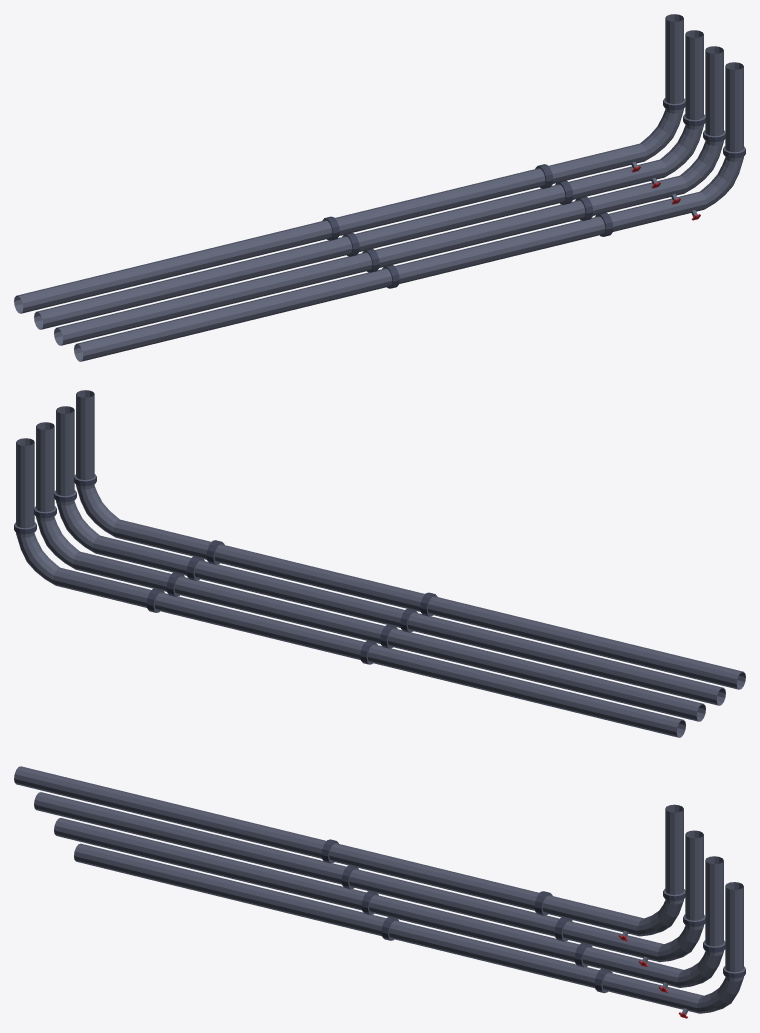
Rendered from pipeTLU.fbx.
3 renders of one model, top to bottom at view 1: azimuth 30°, elevation 25°; view 2: azimuth 150°, elevation 25°; view 3: azimuth 330°, elevation 25°, orthographic.
Visible parts, largest first — view 1: pipesTLU; view 2: pipesTLU; view 3: pipesTLU.
Boxes of the visible parts, box(x1,y1,x2,y2) form: pipesTLU: box(14, 14, 745, 361); pipesTLU: box(14, 390, 745, 737); pipesTLU: box(14, 766, 745, 1018).
Bounding box in the file's own units: 18.78 × 5 × 0.6258.
